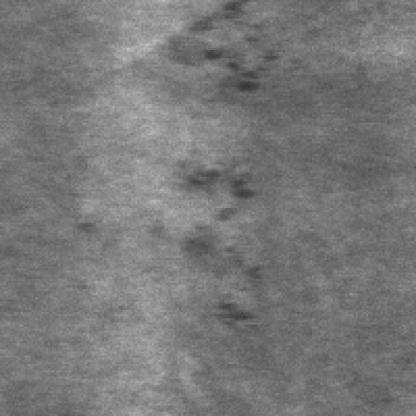rolled-in_scale: (177, 147, 270, 332), (166, 0, 272, 92)
